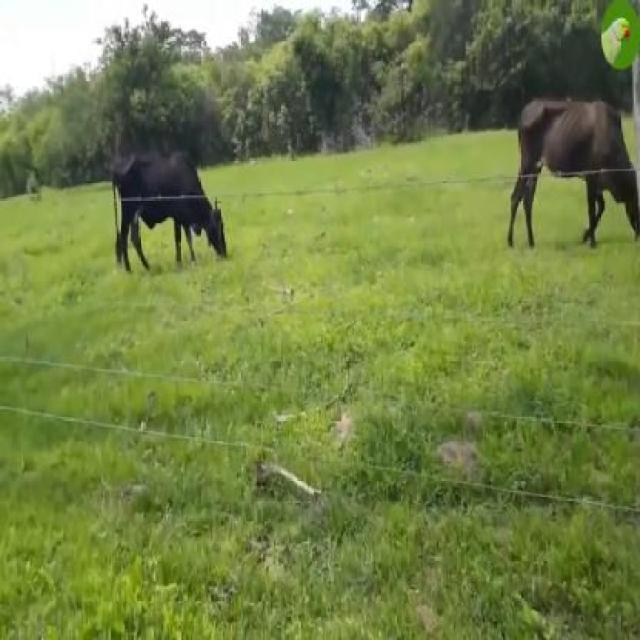Cow: (509, 98, 638, 254), (111, 154, 226, 278)
